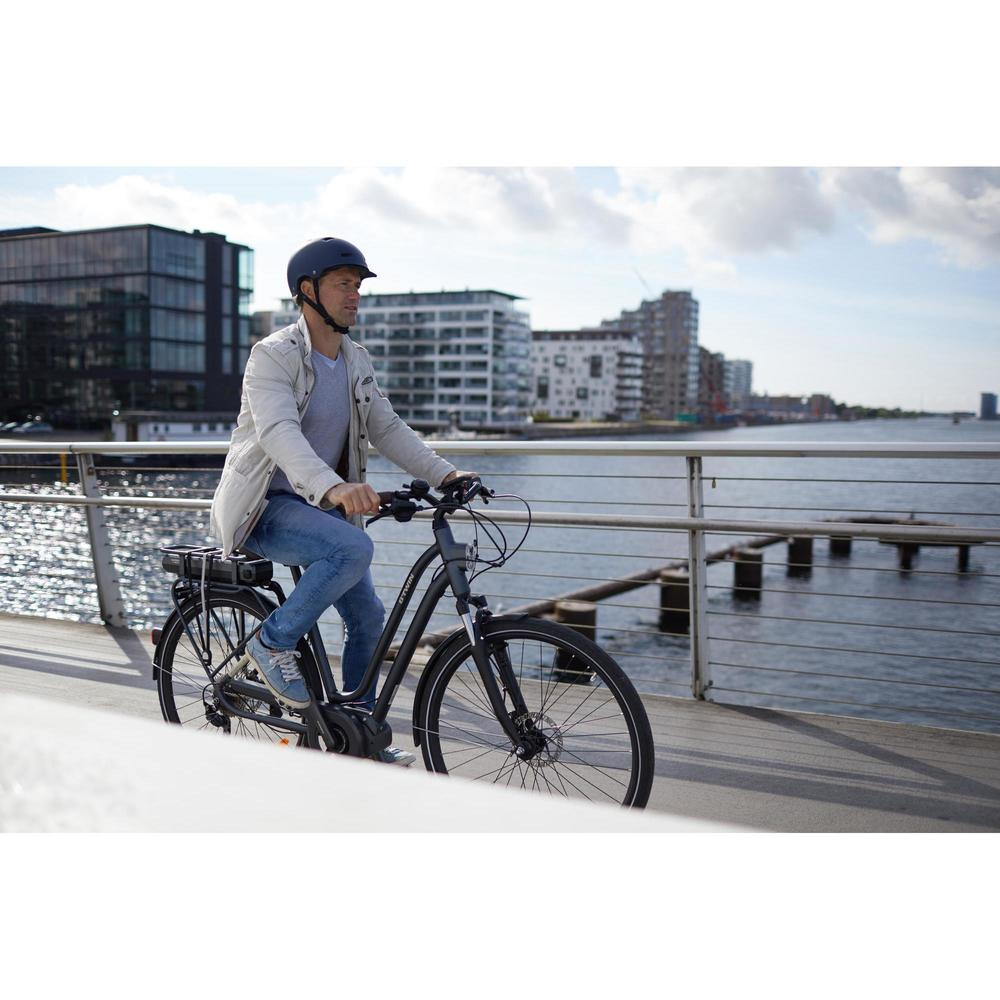UrbanBike: (155, 485, 672, 819)
